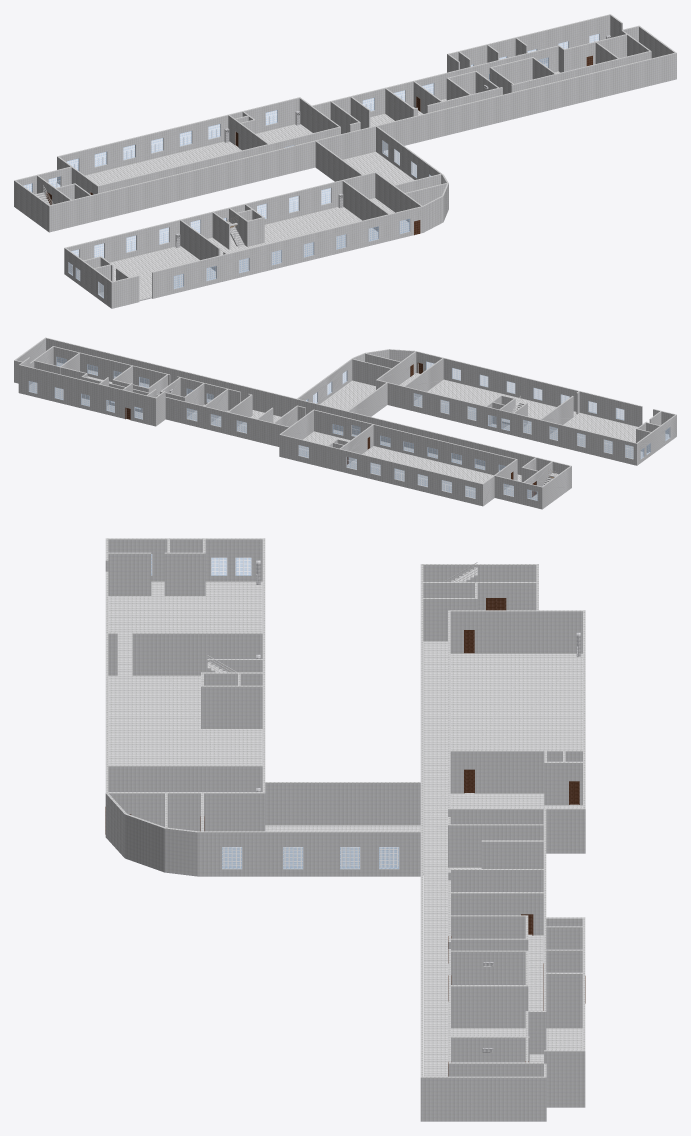
The model's file is hql-f1.glb.
3 renders of one model, top to bottom at view 1: azimuth 30°, elevation 25°; view 2: azimuth 150°, elevation 25°; view 3: azimuth 270°, elevation 25°, orthographic. The views are drawn at different scales.
Parts seen in each view (by area): view 1: 1F, 1F_Ceiling, 1F窗; view 2: 1F, 1F_Ceiling, 1F窗, 1F门; view 3: 1F, 1F_Ceiling, 1F窗, 1F门.
Boxes of the visible parts, bbox=[...] form: 1F: bbox=[14, 15, 676, 308]; 1F_Ceiling: bbox=[14, 14, 676, 300]; 1F窗: bbox=[23, 33, 599, 298]; 1F: bbox=[14, 338, 676, 509]; 1F_Ceiling: bbox=[14, 337, 676, 500]; 1F窗: bbox=[29, 357, 669, 500]; 1F门: bbox=[125, 362, 536, 496]; 1F: bbox=[105, 539, 585, 1121]; 1F_Ceiling: bbox=[105, 538, 585, 1077]; 1F窗: bbox=[151, 554, 399, 868]; 1F门: bbox=[105, 598, 585, 1076].
Bounding box in the file's own units: 94.44 × 4.6 × 35.53.
Materials: 6 (6 with a texture image).
